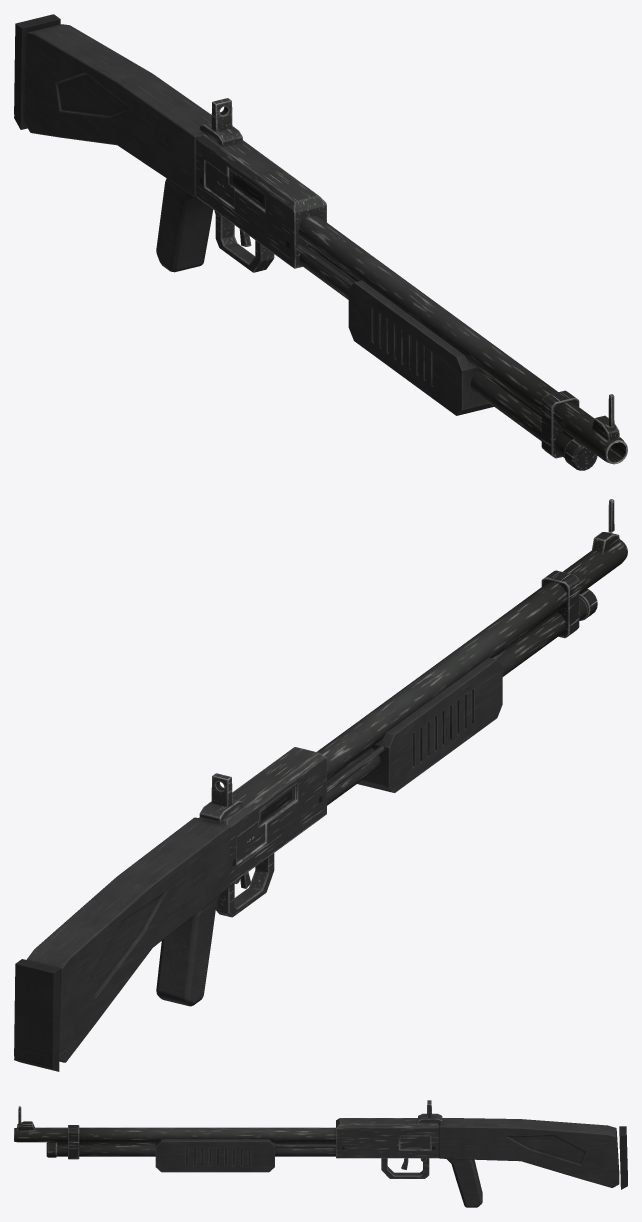
The model's file is pump_shotgun.glb.
3 renders of one model, top to bottom at view 1: azimuth 30°, elevation 25°; view 2: azimuth 150°, elevation 25°; view 3: azimuth 270°, elevation 25°, orthographic. The views are drawn at different scales.
Parts seen in each view (by area): view 1: body, rear_sight; view 2: body, rear_sight; view 3: body, rear_sight.
Boxes of the visible parts, x1,y1,x2,y2 form: body: [14, 14, 627, 470]; rear_sight: [199, 98, 242, 146]; body: [14, 499, 627, 1071]; rear_sight: [199, 773, 242, 822]; body: [14, 1106, 627, 1207]; rear_sight: [418, 1100, 442, 1123].
Size of the model in its own units: 0.035 by 0.159 by 0.866.
Materials: 1 (1 with a texture image).
